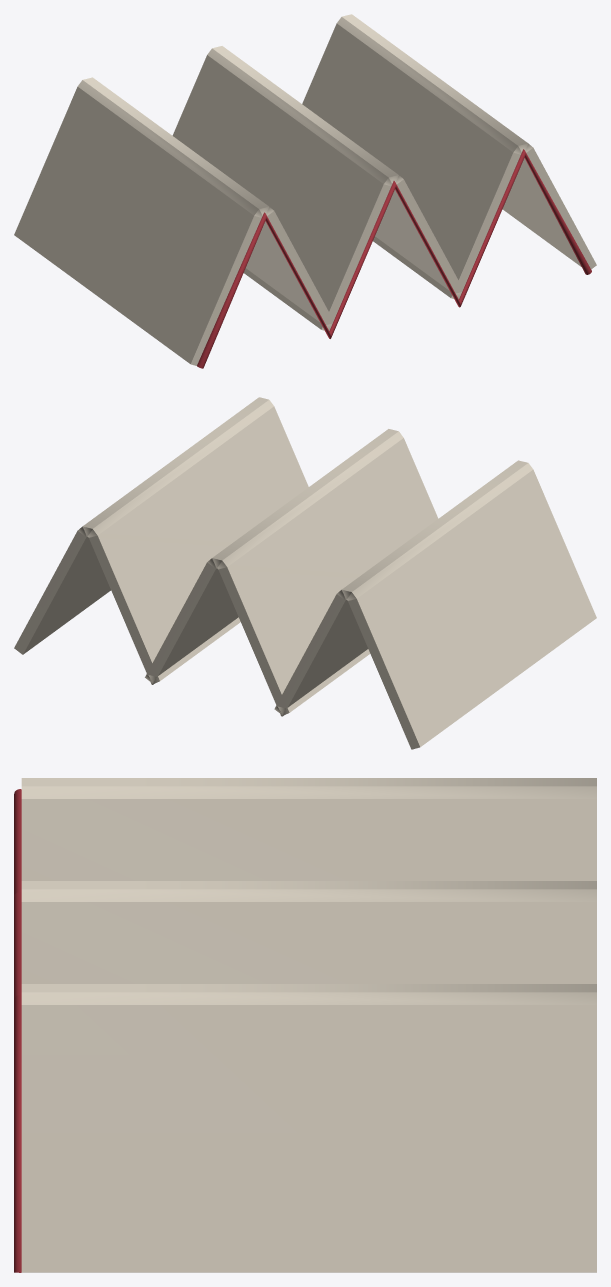
The model's file is VSV-028.glb.
3 renders of one model, top to bottom at view 1: azimuth 30°, elevation 25°; view 2: azimuth 150°, elevation 25°; view 3: azimuth 270°, elevation 25°, orthographic. The views are drawn at different scales.
Parts seen in each view (by area): view 1: VSV-028_folded-sheet__folded sheet, VSV-028_folded-sheet__crimson edge; view 2: VSV-028_folded-sheet__folded sheet; view 3: VSV-028_folded-sheet__folded sheet, VSV-028_folded-sheet__crimson edge.
Part boxes in pixels (x1,y1,x2,y2): VSV-028_folded-sheet__folded sheet: (14,14,596,365); VSV-028_folded-sheet__crimson edge: (197,149,591,368); VSV-028_folded-sheet__folded sheet: (14,397,596,749); VSV-028_folded-sheet__folded sheet: (21,778,596,1272); VSV-028_folded-sheet__crimson edge: (14,789,21,1272).
Bounding box in the file's own units: 2.26 × 0.778 × 1.72.
